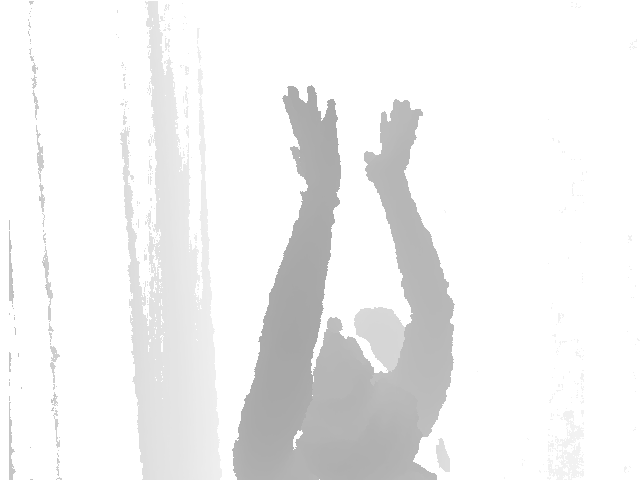hand: (281, 84, 342, 195), (364, 99, 423, 176)
head: (296, 317, 403, 443)
person: (234, 84, 453, 480)
